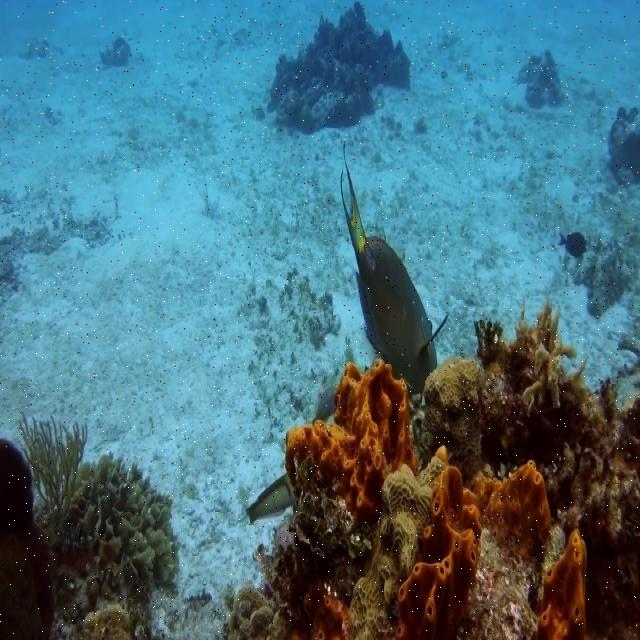fish: (340, 139, 449, 387), (244, 473, 295, 526), (312, 386, 335, 424), (557, 231, 588, 257)
reefs: (287, 358, 555, 639), (16, 411, 182, 624), (417, 356, 483, 462), (533, 527, 589, 639)
